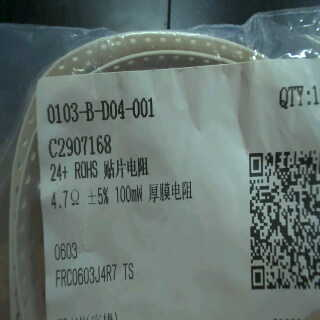4.7R: (47, 182, 83, 211)
